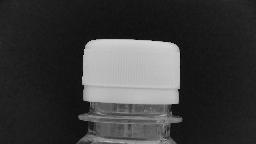Loose Cap: (74, 82, 186, 128)
